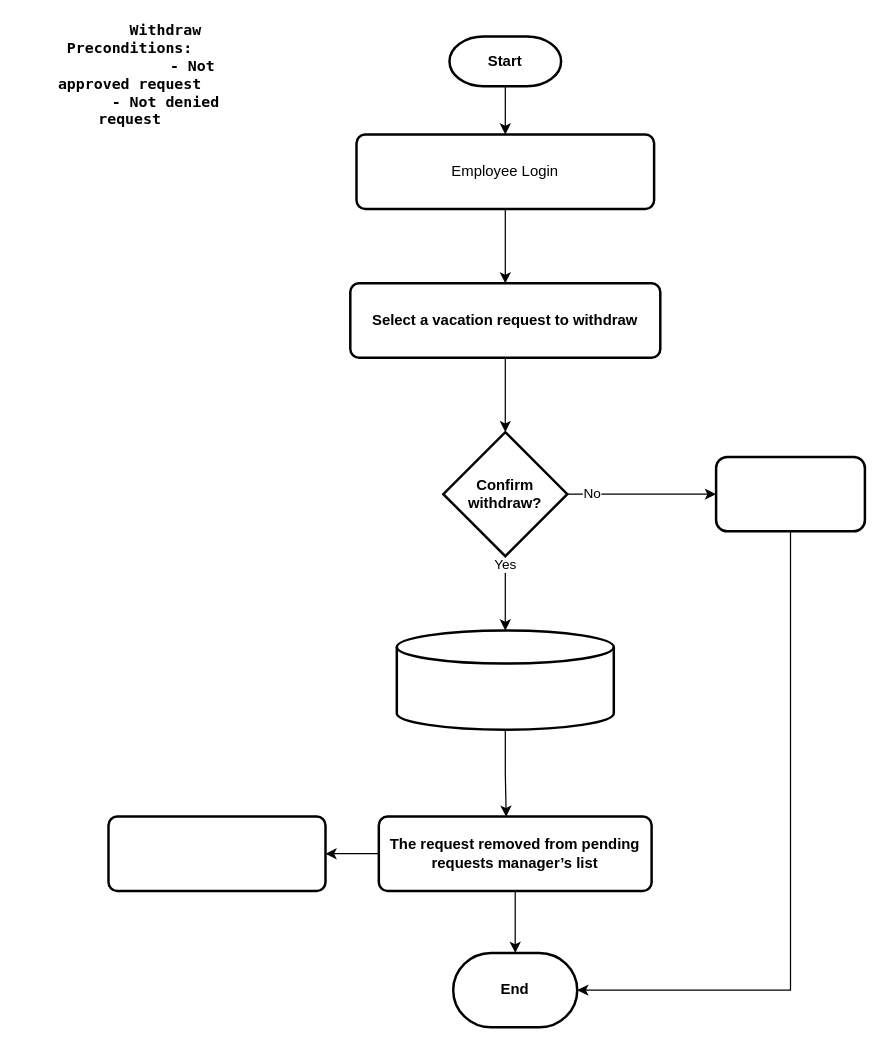
Some shapes in this 887 by 1049 pixel diagram are drawn without their labels. The shapes that lost their labels are listed below. From the top down, each one's box as (x1, y1, x2, y2) in pixels, then its label:
(714, 455, 866, 532): Cancel request
(395, 629, 614, 730): Update request state in DB
(107, 815, 326, 892): Notify Manager by email
